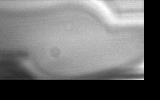cell: (47, 44, 64, 59)
